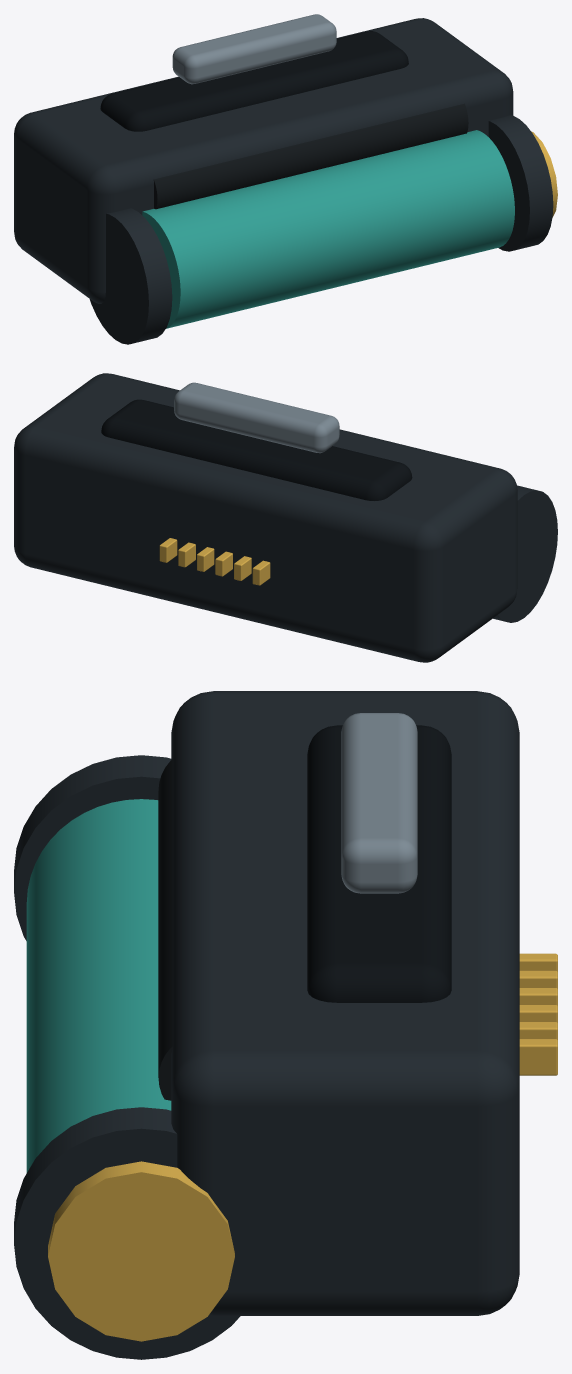
The model's file is printer-imaging-unit.glb.
3 renders of one model, top to bottom at view 1: azimuth 30°, elevation 25°; view 2: azimuth 150°, elevation 25°; view 3: azimuth 270°, elevation 25°, orthographic. The views are drawn at different scales.
Visible parts, largest first — view 1: OPC imaging drum, Imaging unit housing, Drum end cap (×2), Developer reservoir, Developer roller, Lift handle, Drive coupling; view 2: Imaging unit housing, Developer reservoir, Lift handle, Drum end cap, Imaging contact (×6); view 3: Imaging unit housing, OPC imaging drum, Drive coupling (×2), Developer reservoir, Drum end cap (×2), Lift handle, Developer roller, Imaging contact.
Boxes of the visible parts, x1=… form: OPC imaging drum: x1=142, y1=130, x2=514, y2=328; Imaging unit housing: x1=14, y1=18, x2=513, y2=303; Drum end cap (×2): x1=89, y1=115, x2=553, y2=344; Developer reservoir: x1=100, y1=31, x2=408, y2=131; Developer roller: x1=153, y1=103, x2=468, y2=209; Lift handle: x1=172, y1=14, x2=336, y2=84; Drive coupling: x1=531, y1=131, x2=557, y2=217; Imaging unit housing: x1=14, y1=373, x2=517, y2=662; Developer reservoir: x1=101, y1=399, x2=412, y2=500; Lift handle: x1=174, y1=382, x2=339, y2=453; Drum end cap: x1=493, y1=485, x2=557, y2=622; Imaging contact (×6): x1=159, y1=538, x2=270, y2=585; Imaging unit housing: x1=171, y1=691, x2=519, y2=1315; OPC imaging drum: x1=26, y1=799, x2=171, y2=1172; Drive coupling (×2): x1=48, y1=1161, x2=234, y2=1341; Developer reservoir: x1=307, y1=725, x2=451, y2=1002; Drum end cap (×2): x1=14, y1=755, x2=240, y2=1359; Lift handle: x1=341, y1=713, x2=417, y2=893; Developer roller: x1=158, y1=759, x2=172, y2=1100; Imaging contact: x1=519, y1=1039, x2=557, y2=1075.
Bounding box in the file's own units: 2.2 × 1.03 × 1.28.
